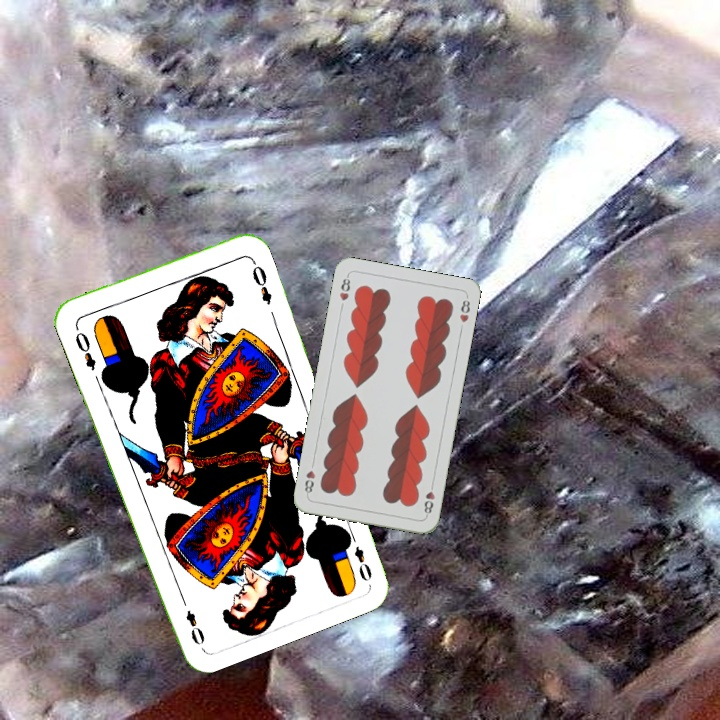EO: (71, 327, 99, 373), (350, 542, 375, 584)
H8: (420, 478, 437, 519), (335, 271, 353, 303)
